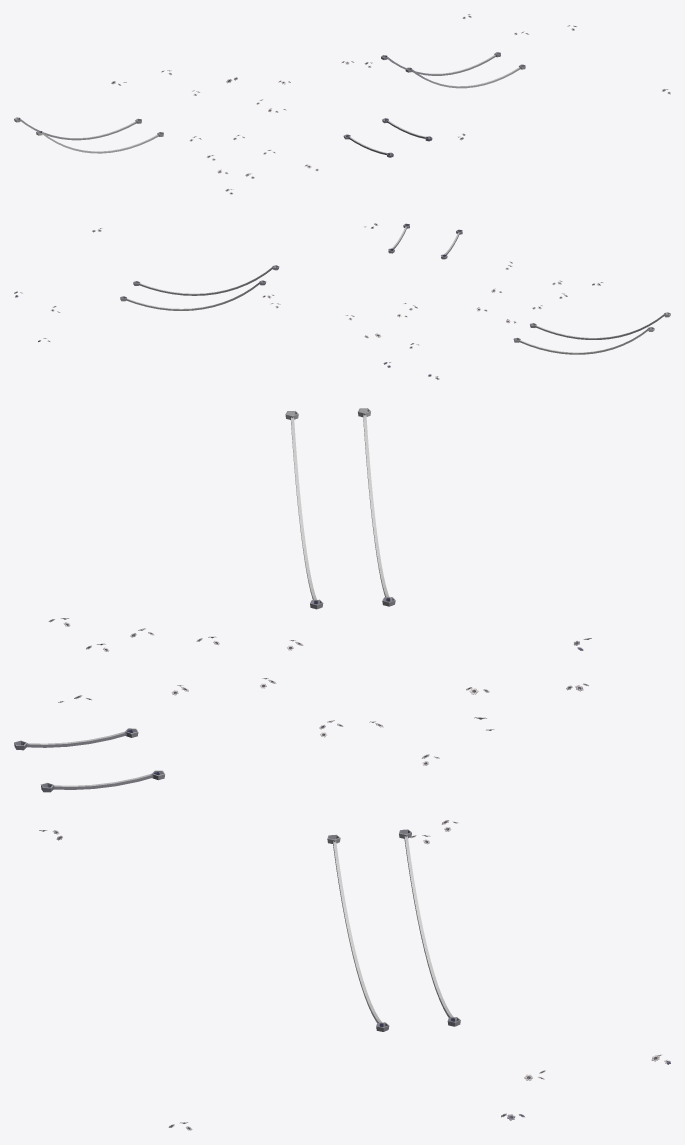
Rendered from Flower_01.FBX.
3 views of the same model, one above another, from view 1: azimuth 30°, elevation 25°; view 2: azimuth 150°, elevation 25°; view 3: azimuth 270°, elevation 25° (orthographic). The views are drawn at different scales.
Visible parts, largest first — view 1: Flower_01; view 2: Flower_01; view 3: Flower_01.
Part boxes in pixels (x1,y1,x2,y2): Flower_01: (14,14,670,194); Flower_01: (14,223,670,379); Flower_01: (14,408,670,1130).
Bounding box in the file's own units: 44.47 × 5.91 × 21.94.
